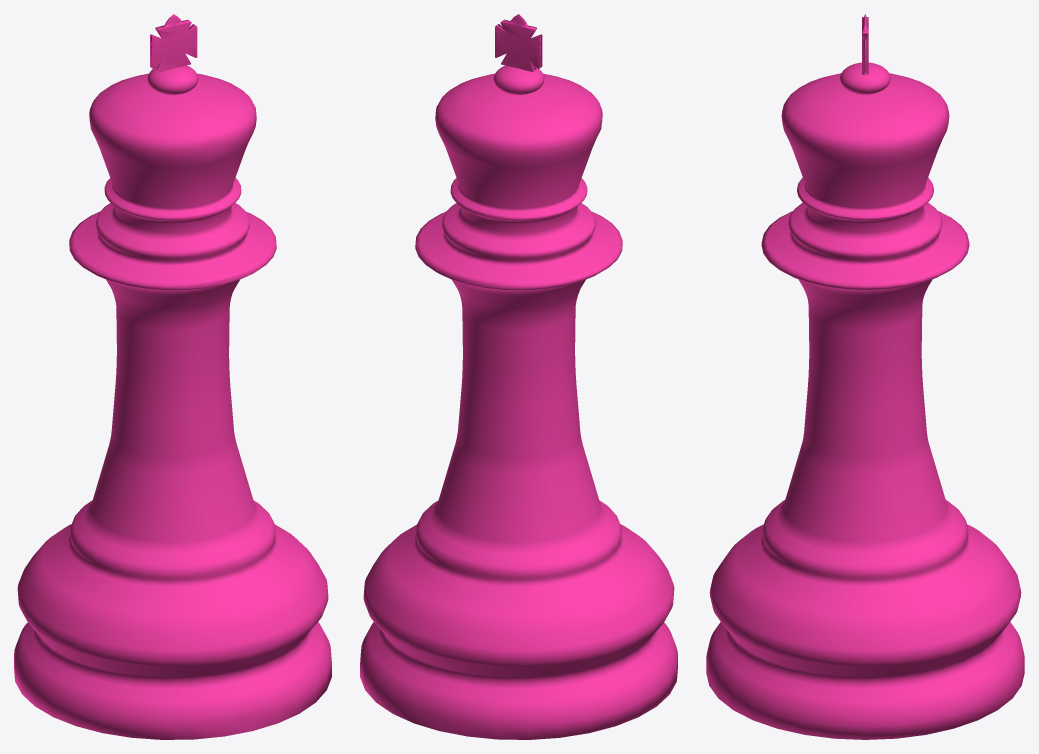
Rendered from king.fbx.
3 views of the same model, side by side, from view 1: azimuth 30°, elevation 25°; view 2: azimuth 150°, elevation 25°; view 3: azimuth 270°, elevation 25° (orthographic).
Visible parts, largest first — view 1: Dark King; view 2: Dark King; view 3: Dark King.
Boxes of the visible parts, x1=… form: Dark King: x1=14, y1=14, x2=331, y2=739; Dark King: x1=360, y1=14, x2=677, y2=739; Dark King: x1=706, y1=14, x2=1024, y2=739.
Size of the model in its own units: 99.47 by 227 by 99.47.
